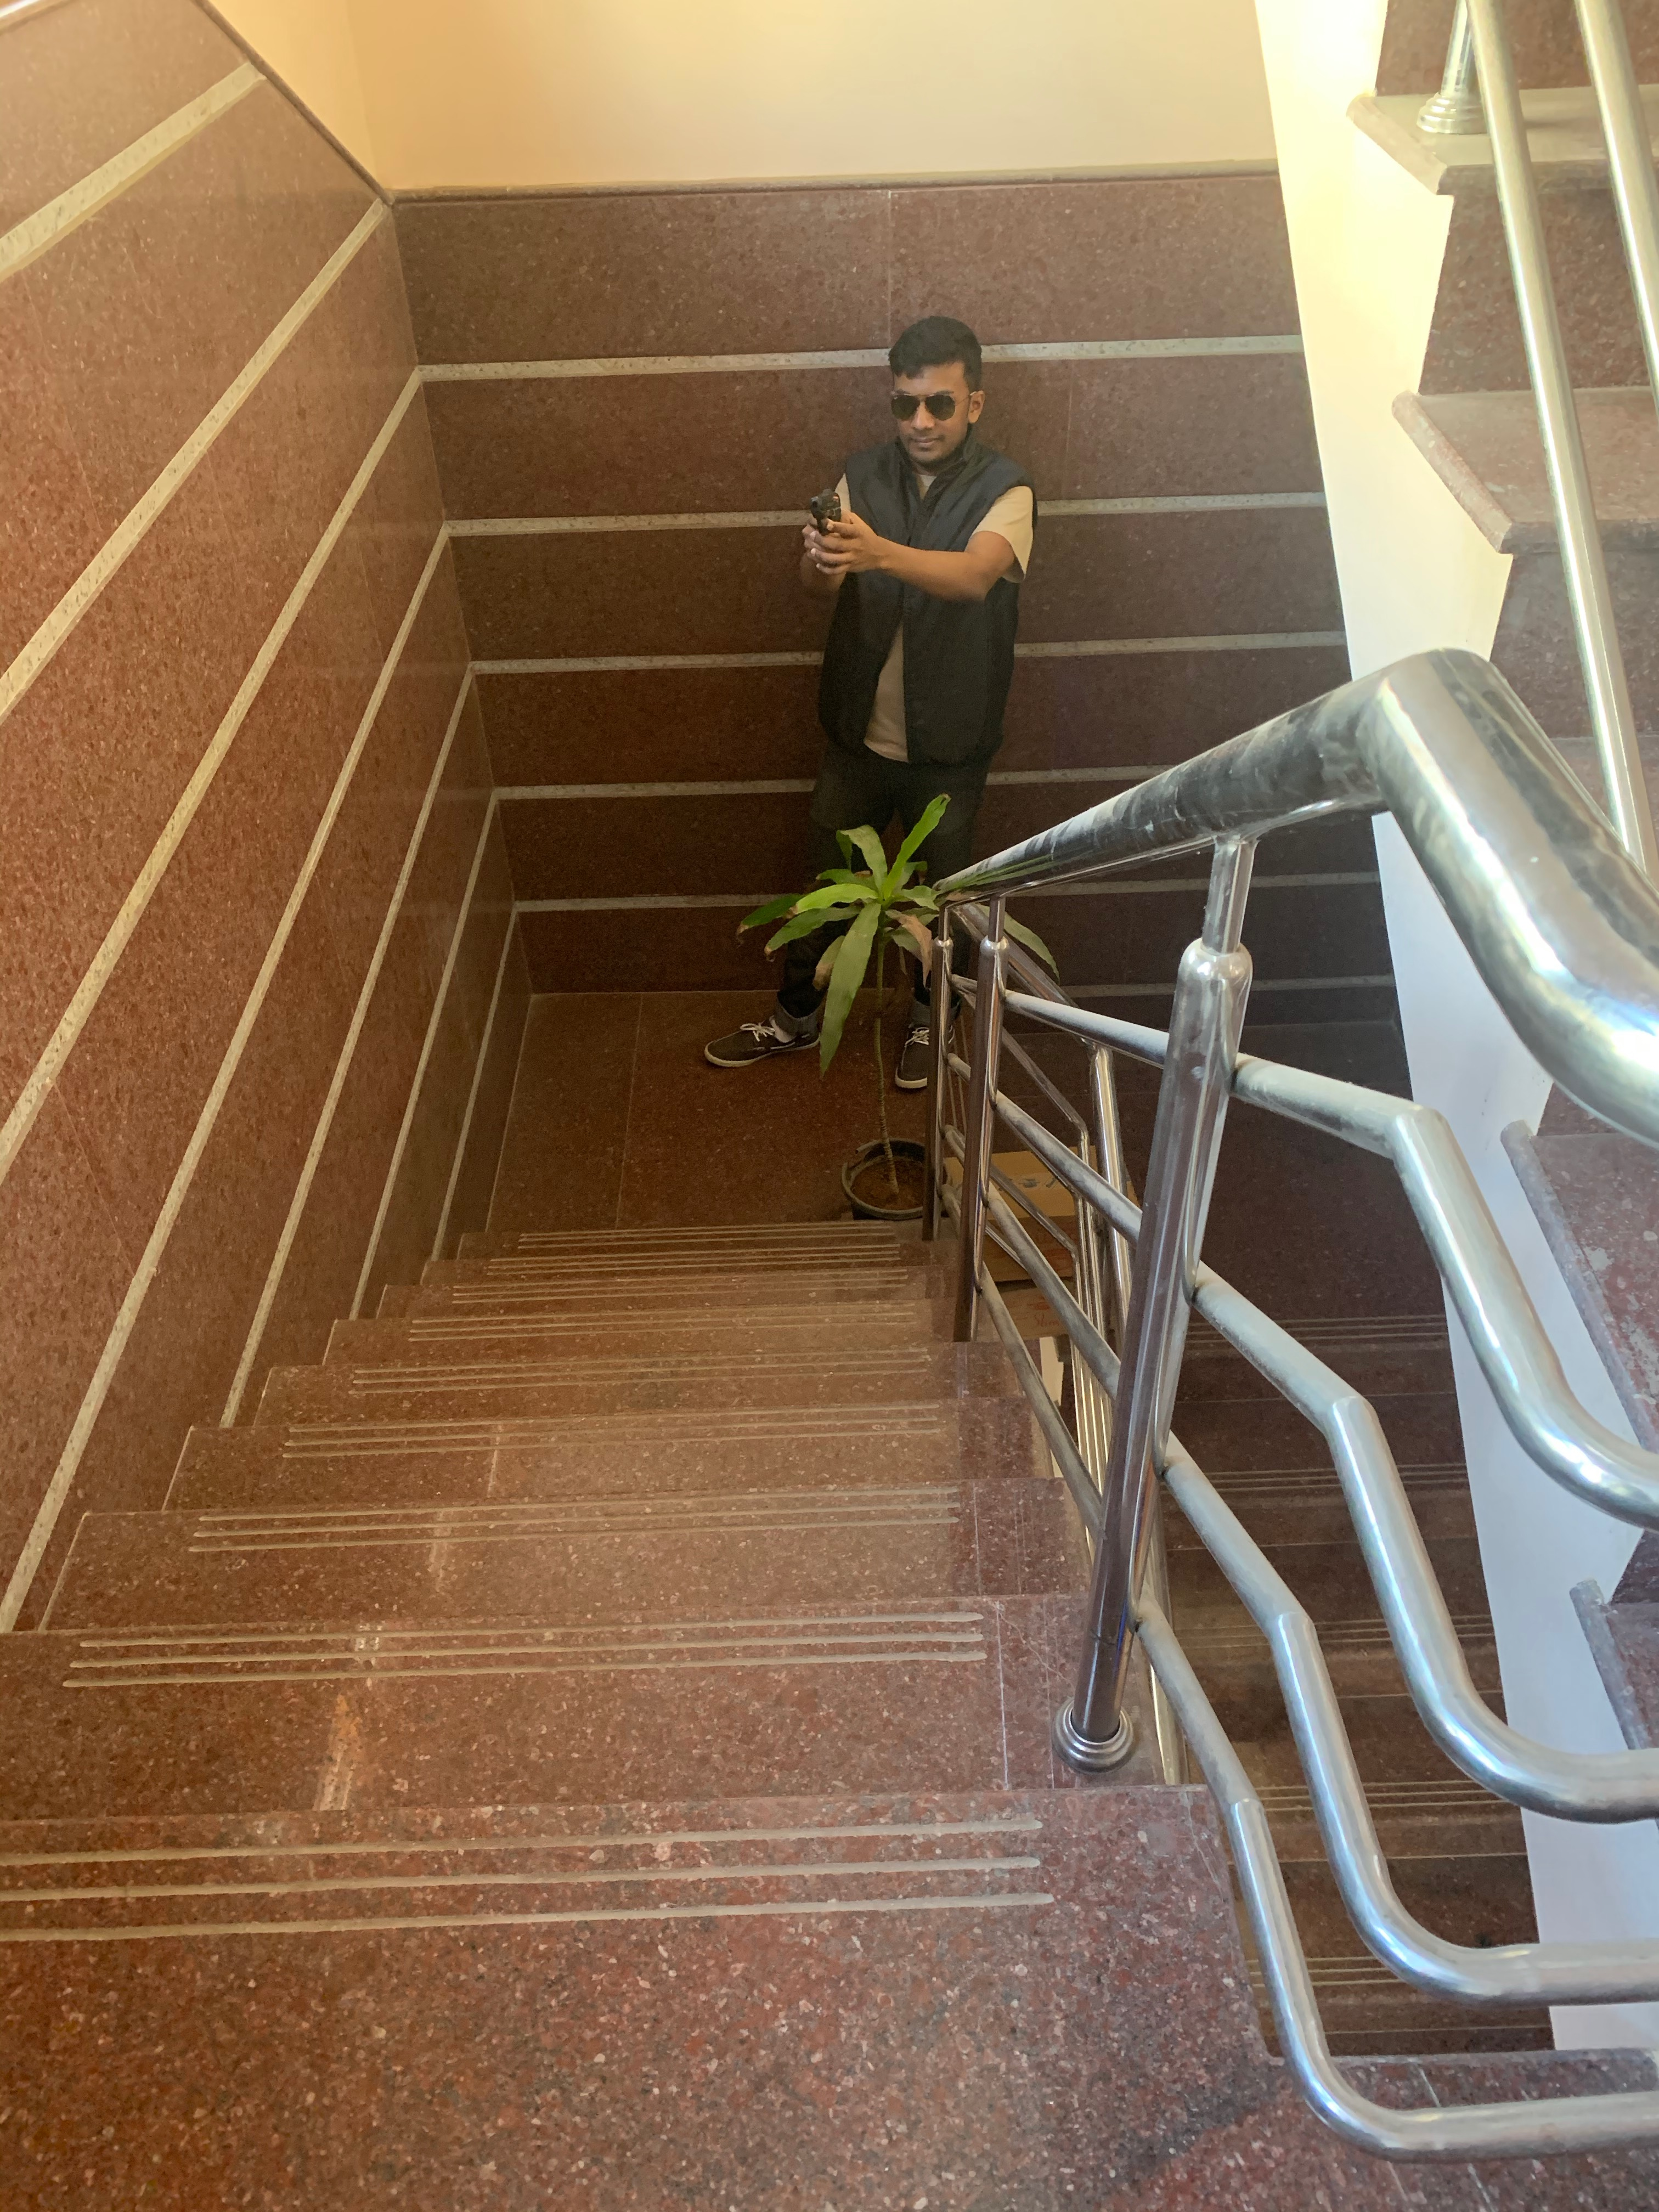gun: (800, 469, 842, 533)
